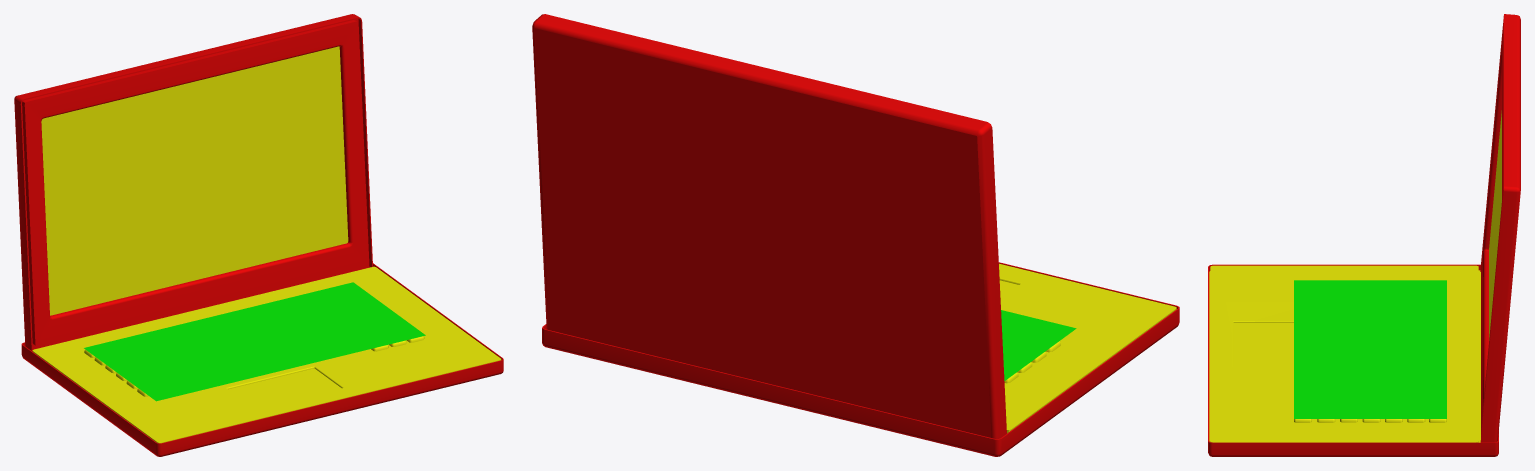
Rendered from thorkea_laptops_grp.fbx.
3 views of the same model, side by side, from view 1: azimuth 30°, elevation 25°; view 2: azimuth 150°, elevation 25°; view 3: azimuth 270°, elevation 25° (orthographic). The views are drawn at different scales.
Visible parts, largest first — view 1: thorkea_laptop_props_america; view 2: thorkea_laptop_props_america; view 3: thorkea_laptop_props_america.
Boxes of the visible parts, left/top/right/bottom form: thorkea_laptop_props_america: left=14, top=14, right=503, bottom=456; thorkea_laptop_props_america: left=532, top=14, right=1179, bottom=456; thorkea_laptop_props_america: left=1208, top=14, right=1520, bottom=456.
Bounding box in the file's own units: 37 × 26.05 × 27.4.
